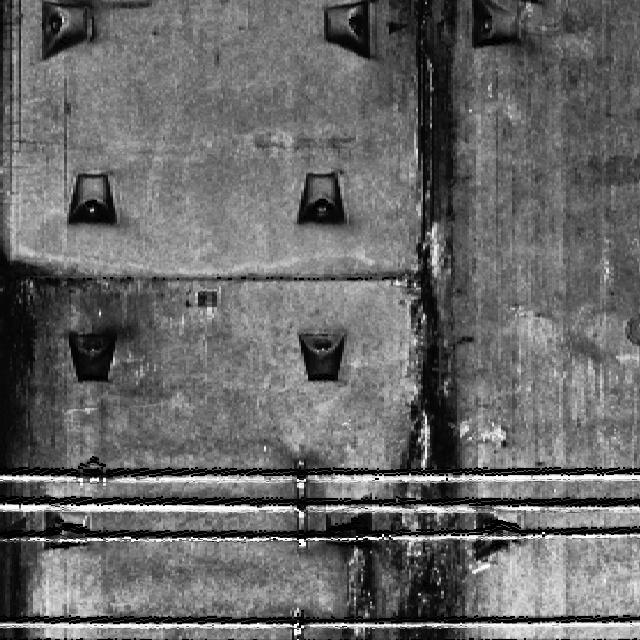leakage: (393, 0, 480, 638), (0, 222, 64, 639), (321, 498, 382, 639)
